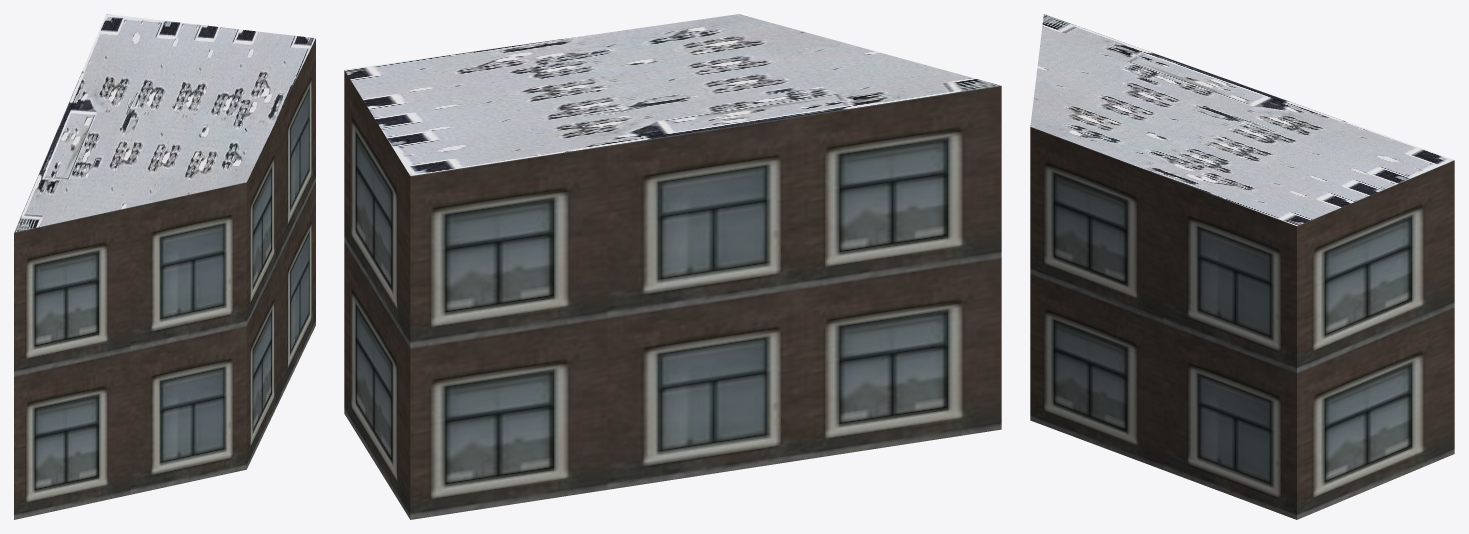
File: ResTex__4541.fbx
The picture shows the model from 3 angles, left to right: view 1: azimuth 30°, elevation 25°; view 2: azimuth 150°, elevation 25°; view 3: azimuth 270°, elevation 25°; orthographic projection. The views are drawn at different scales.
Visible parts, largest first — view 1: CityEngineMaterial_16_m, CityEngineMaterial_15_m; view 2: CityEngineMaterial_16_m, CityEngineMaterial_15_m; view 3: CityEngineMaterial_16_m, CityEngineMaterial_15_m.
Part boxes in pixels (left/top/right/bottom): CityEngineMaterial_16_m: left=14, top=38, right=315, bottom=519; CityEngineMaterial_15_m: left=14, top=14, right=315, bottom=232; CityEngineMaterial_16_m: left=344, top=70, right=1001, bottom=519; CityEngineMaterial_15_m: left=344, top=14, right=1000, bottom=175; CityEngineMaterial_16_m: left=1030, top=127, right=1454, bottom=519; CityEngineMaterial_15_m: left=1030, top=14, right=1453, bottom=225.
Bounding box in the file's own units: 9.3 × 6 × 7.85.
Materials: 2 (2 with a texture image).
